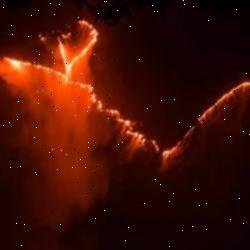fire: (3, 12, 106, 89), (166, 74, 250, 164), (87, 92, 145, 151)
